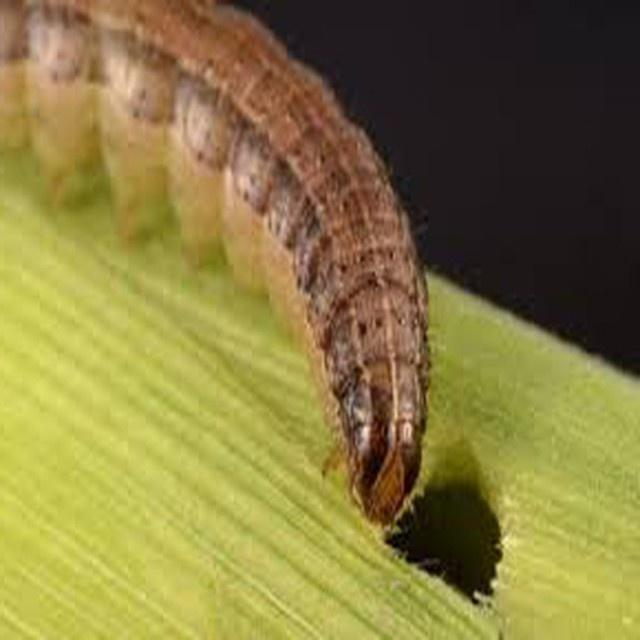gusano_cogollero: (68, 14, 426, 522)
